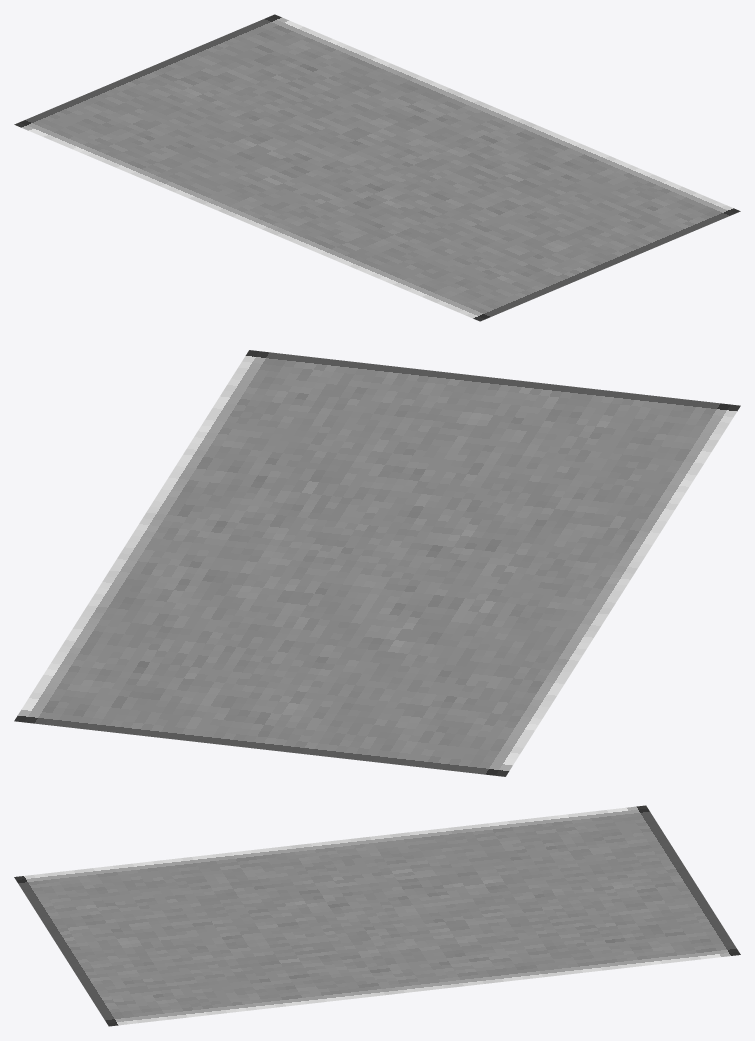
File: primary_048.glb
3 renders of one model, top to bottom at view 1: azimuth 30°, elevation 25°; view 2: azimuth 150°, elevation 25°; view 3: azimuth 270°, elevation 25°, orthographic. The views are drawn at different scales.
Parts seen in each view (by area): view 1: Object; view 2: Object; view 3: Object.
Boxes of the visible parts, x1,y1,x2,y2 form: Object: [14, 14, 740, 321]; Object: [14, 350, 740, 776]; Object: [14, 805, 740, 1026].
Bounding box in the file's own units: 1.45 × 5.11e-05 × 2.01.
Materials: 1 (1 with a texture image).
